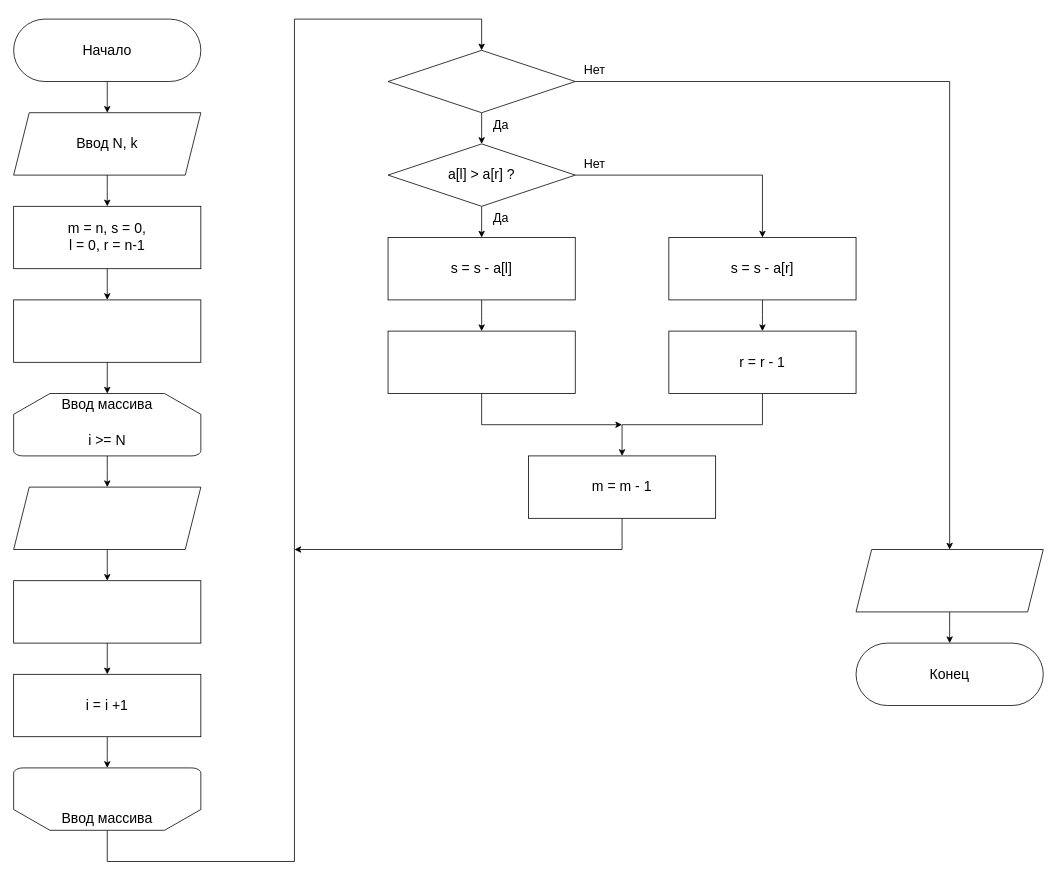
Image size: 1057x881. Some labels were removed from this diagram. Each missing label, with the centre of its shape:
"i = 0" belongs at point (107, 330).
"l = l + 1" belongs at point (481, 362).
"s = s + a[i]" belongs at point (107, 611).
"s > k ?" belongs at point (481, 81).
"Ввод a[i]" belongs at point (107, 518).
"Вывод m" belongs at point (949, 580).
